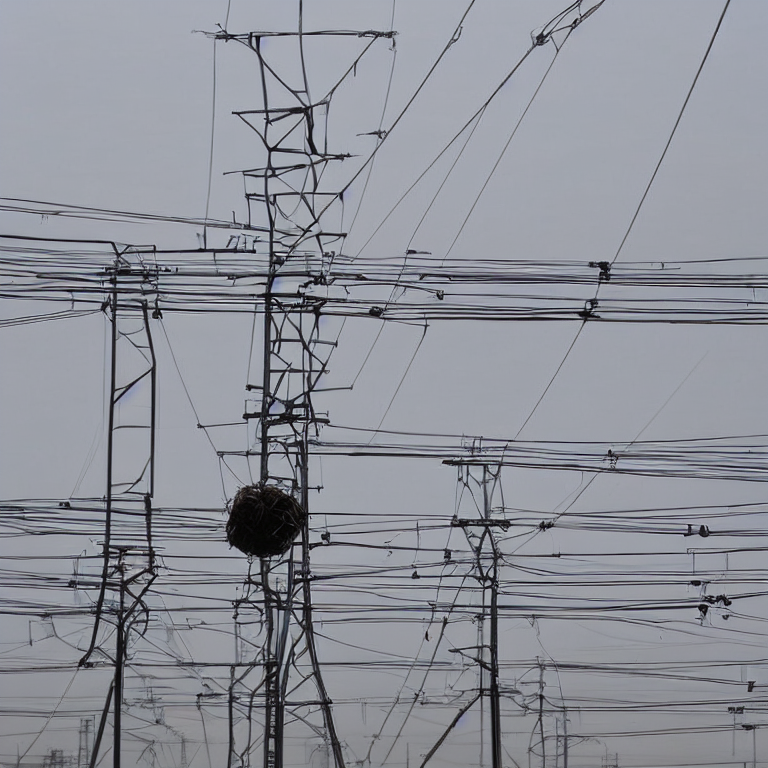nest: (228, 486, 303, 558)
